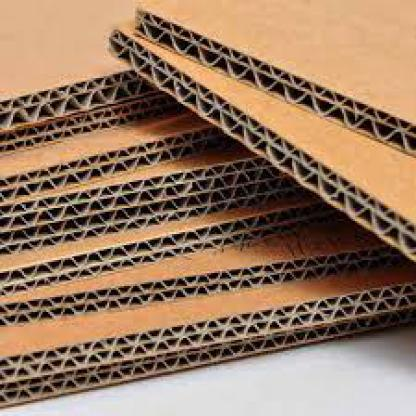CARDBOARD: (106, 20, 414, 260), (0, 264, 414, 405), (0, 214, 403, 328), (133, 0, 414, 158), (0, 197, 353, 297), (0, 174, 320, 254), (0, 141, 278, 227), (0, 0, 171, 127), (0, 107, 228, 201), (0, 93, 178, 157)
